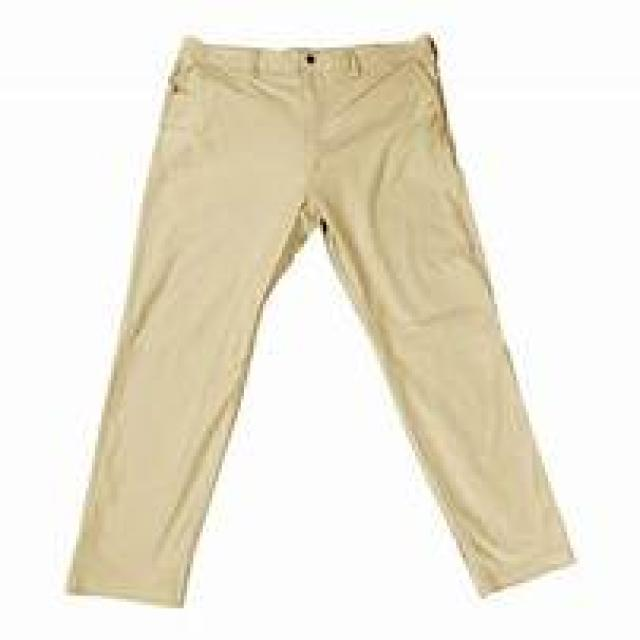long-pants: (70, 34, 580, 612)
